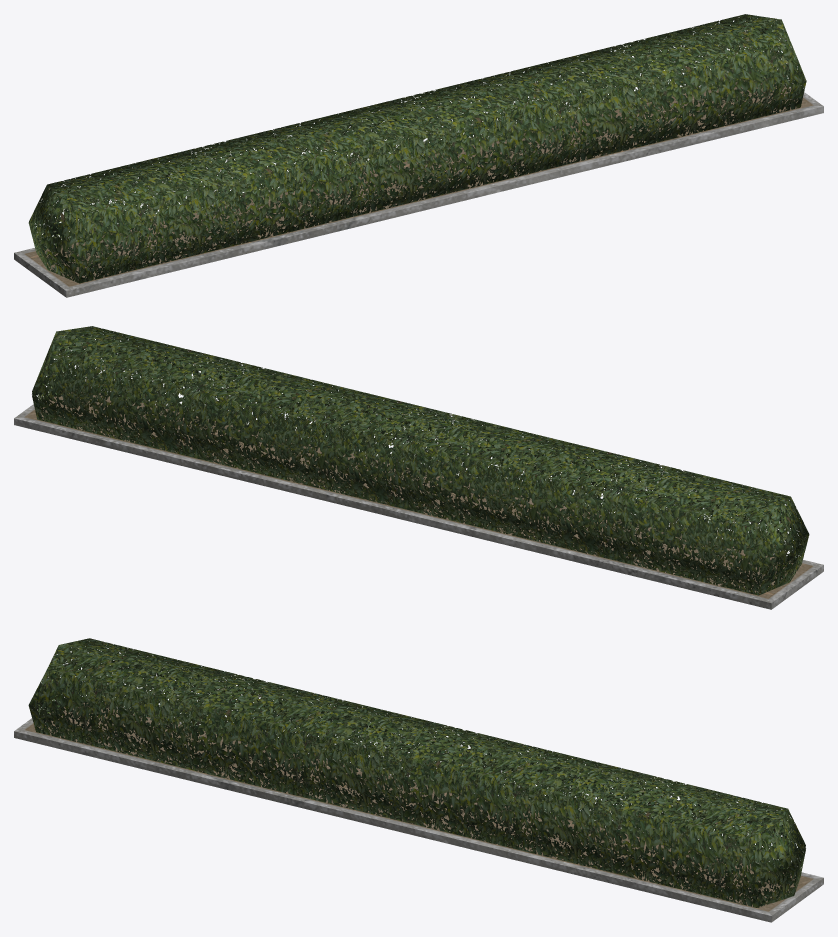
File: jctlowHedgeA.fbx
The picture shows the model from 3 angles, top to bottom: view 1: azimuth 30°, elevation 25°; view 2: azimuth 150°, elevation 25°; view 3: azimuth 330°, elevation 25°; orthographic projection.
Parts seen in each view (by area): view 1: jctlowHedgeA; view 2: jctlowHedgeA; view 3: jctlowHedgeA.
Boxes of the visible parts, x1=… form: jctlowHedgeA: x1=14, y1=14, x2=823, y2=297; jctlowHedgeA: x1=14, y1=326, x2=823, y2=609; jctlowHedgeA: x1=14, y1=638, x2=823, y2=922.
Size of the model in its own units: 600 by 59.2 by 72.
2 materials, 2 textured.
